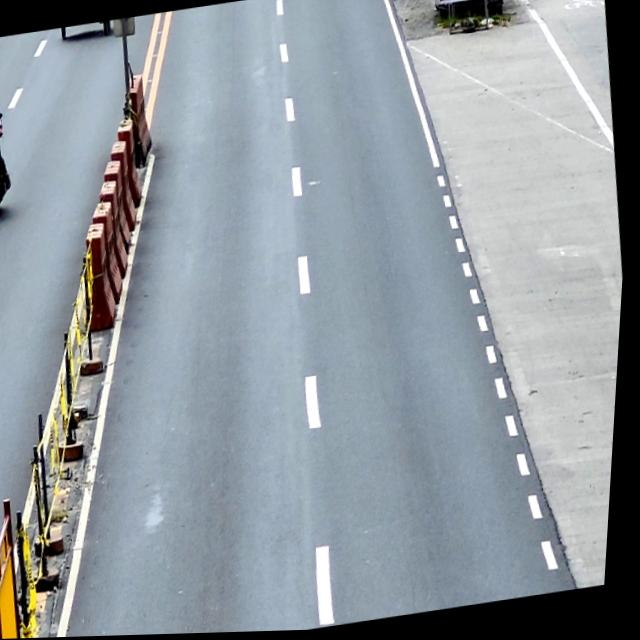Motorcycle: (0, 109, 18, 223)
